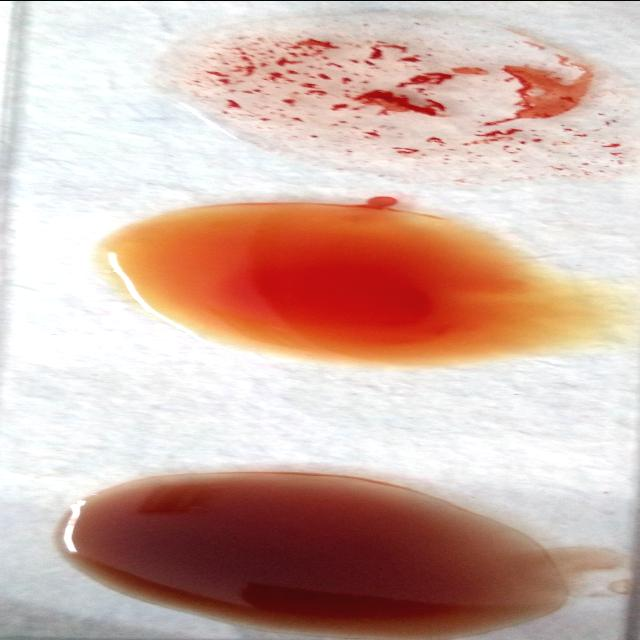D: (177, 12, 620, 167)
